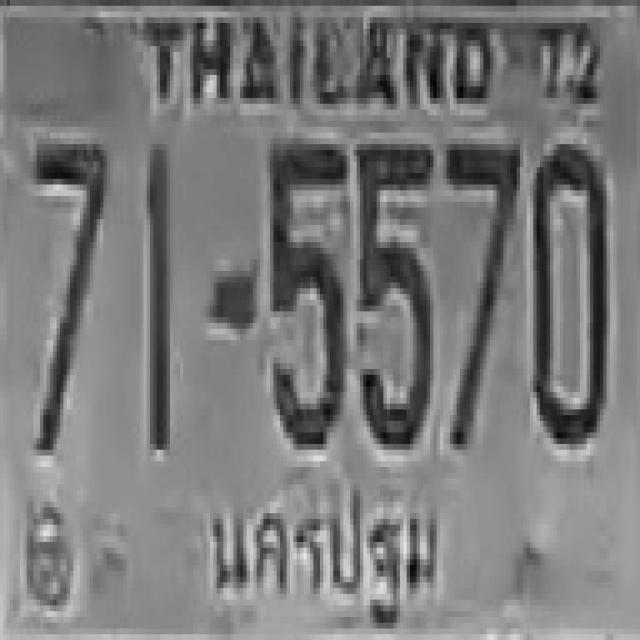0: (530, 138, 607, 438)
1: (143, 141, 170, 447)
5: (266, 138, 346, 444), (355, 138, 432, 444)
7: (32, 138, 105, 450), (443, 138, 517, 444), (443, 138, 517, 375)
NakhonPathom: (205, 482, 446, 630)
